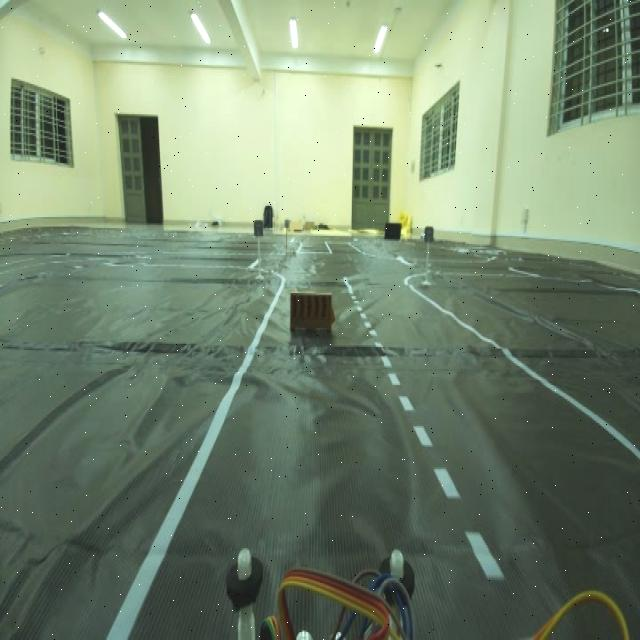roadblock: (287, 287, 340, 347)
